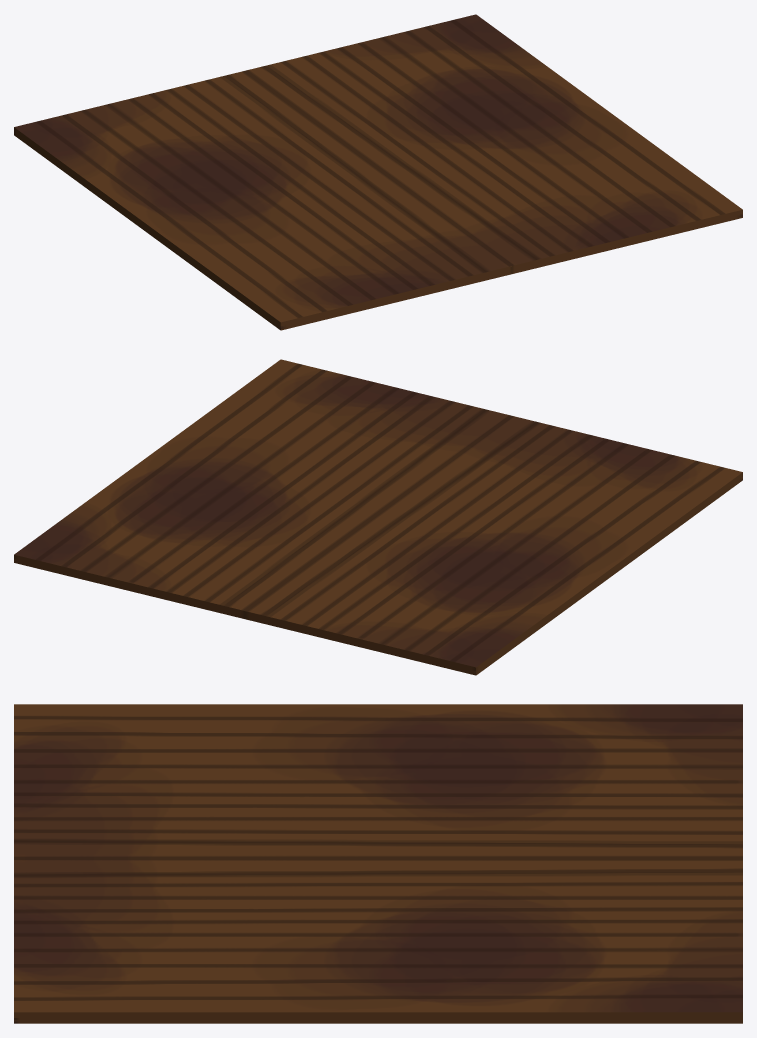
Rendered from Dirty floor 3.glb.
3 renders of one model, top to bottom at view 1: azimuth 30°, elevation 25°; view 2: azimuth 150°, elevation 25°; view 3: azimuth 270°, elevation 25°, orthographic. The views are drawn at different scales.
Visible parts, largest first — view 1: Cube; view 2: Cube; view 3: Cube.
Boxes of the visible parts, bbox=[...] form: Cube: bbox=[14, 14, 742, 330]; Cube: bbox=[14, 359, 742, 675]; Cube: bbox=[14, 704, 742, 1023].
Bounding box in the file's own units: 3.13 × 0.0531 × 3.13.
Materials: 1 (1 with a texture image).
